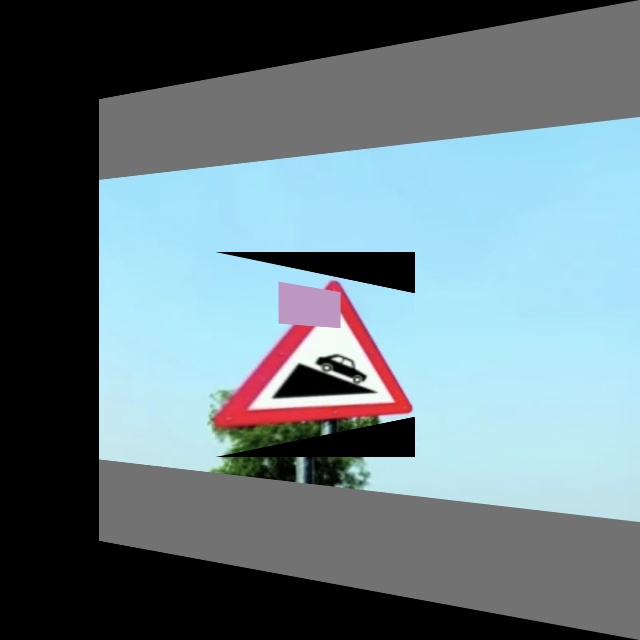Steep_Descent: (215, 252, 415, 457)
